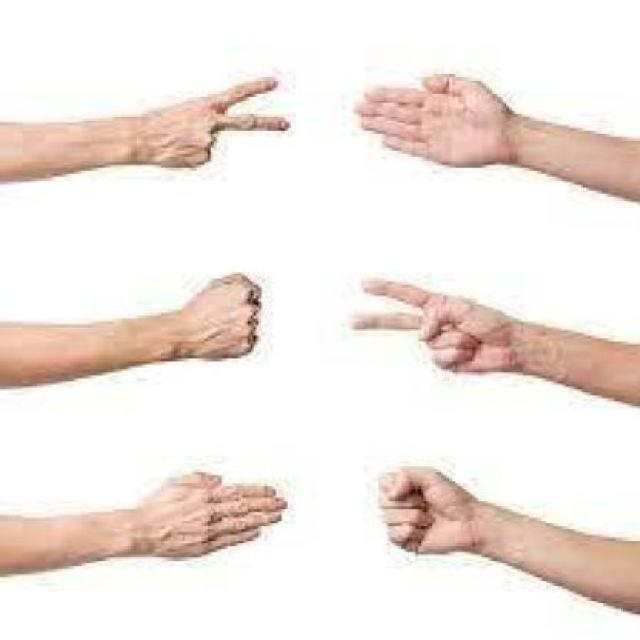Paper: (348, 246, 538, 437), (97, 65, 289, 204)
Rock: (136, 263, 273, 381), (359, 463, 493, 568)
Scissors: (347, 54, 533, 214), (72, 456, 297, 573)
